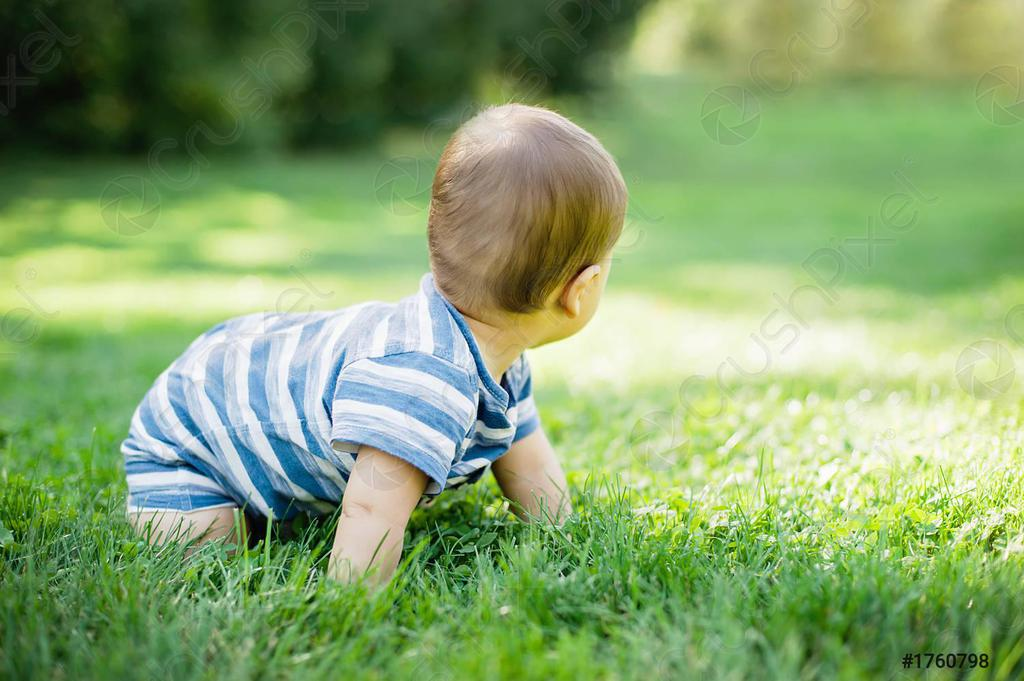child: (77, 100, 651, 591)
